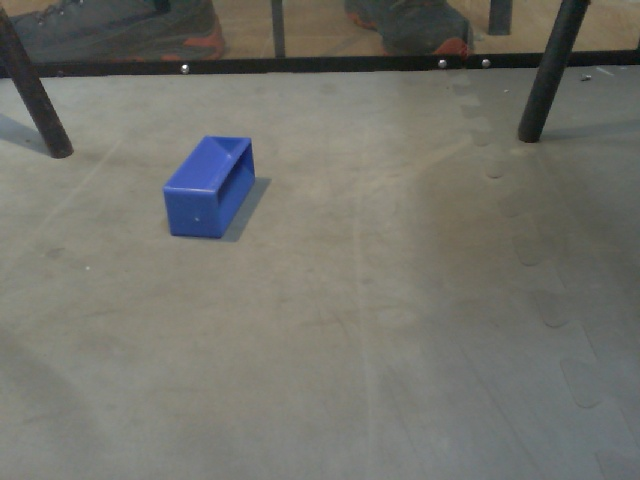BlueSample: (160, 125, 261, 245)
